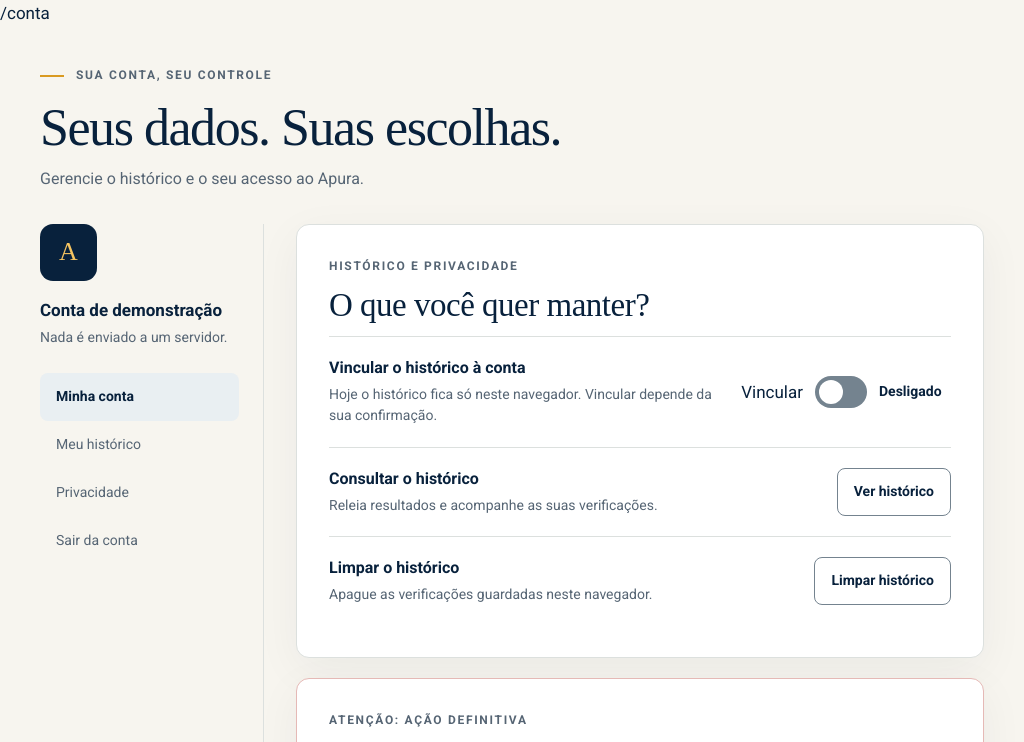
Test: RF28: vincular o histórico › "Agora não" mantém tudo como estava
The image size is (1024, 742).
Click the switch labelled "Vincular".
click(841, 392)  # box [815,376,867,408]
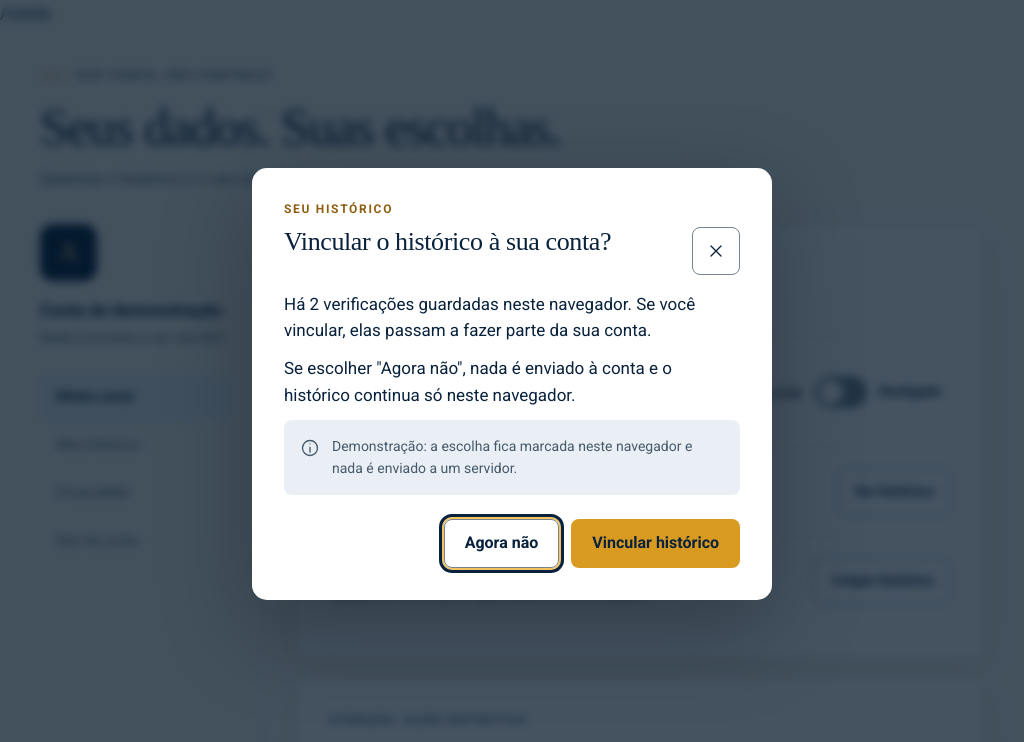
Click the button "Agora não".
click(502, 544)  # box [444,520,559,568]
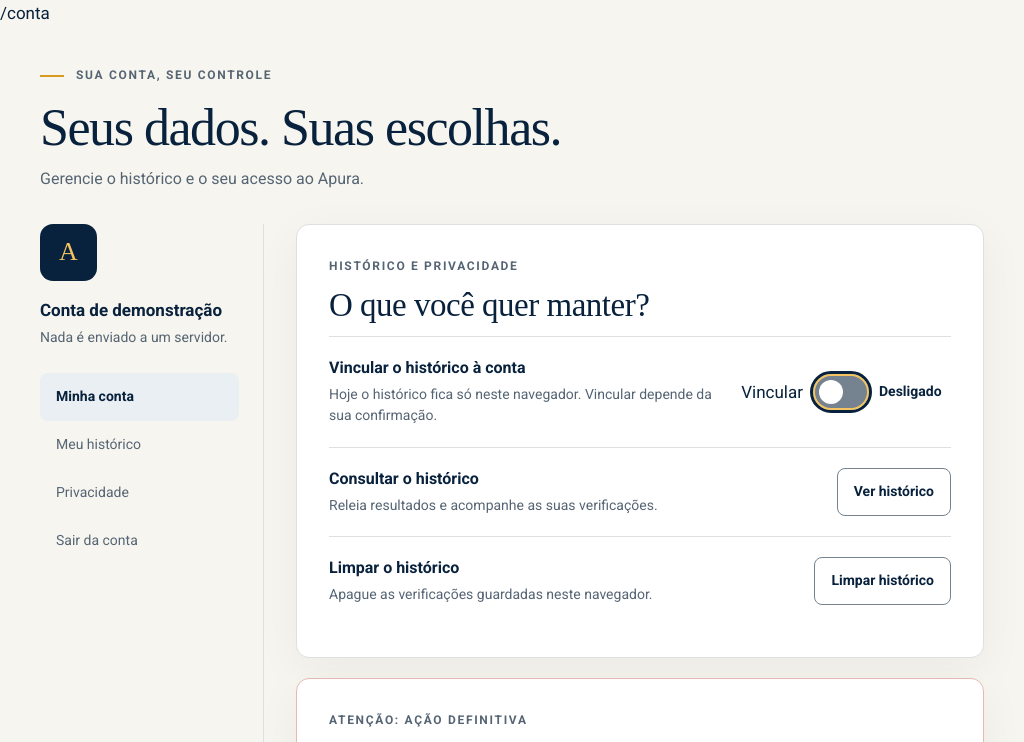
Expected: the switch labelled "Vincular" is not checked, [815,376,867,408]
Expected: the dialog is gone
